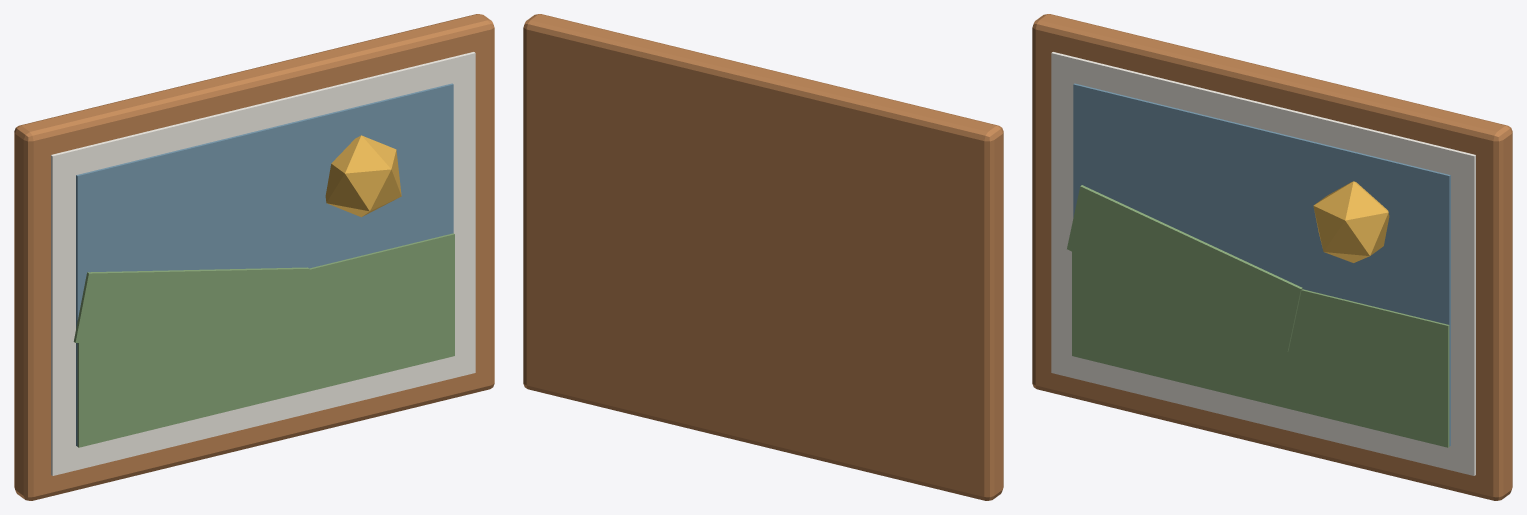
The model's file is picture_landscape.glb.
The picture shows the model from 3 angles, left to right: view 1: azimuth 30°, elevation 25°; view 2: azimuth 150°, elevation 25°; view 3: azimuth 330°, elevation 25°; orthographic projection.
Parts seen in each view (by area): view 1: picture_landscape; view 2: picture_landscape; view 3: picture_landscape.
Part boxes in pixels (x1,y1,x2,y2): picture_landscape: [14, 14, 494, 500]; picture_landscape: [523, 14, 1003, 500]; picture_landscape: [1032, 14, 1512, 500].
Size of the model in its own units: 0.6 by 0.45 by 0.0885.
